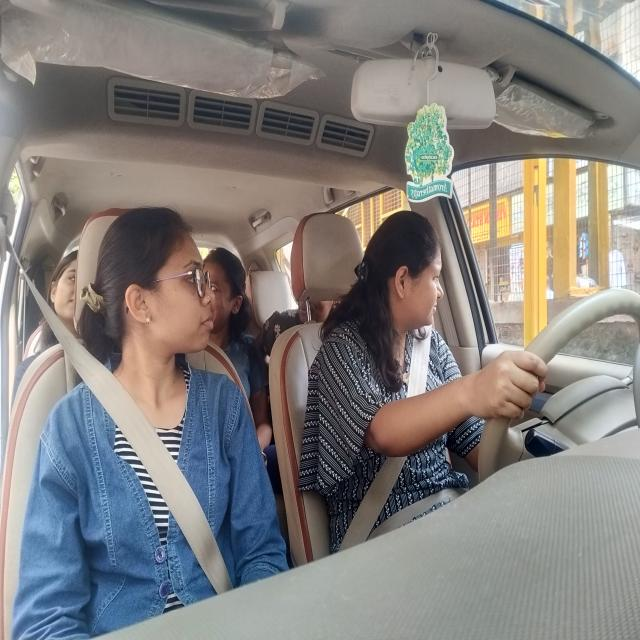LeftRight: (362, 206, 447, 333)
person: (91, 208, 223, 359), (206, 244, 252, 334), (47, 253, 82, 324)
